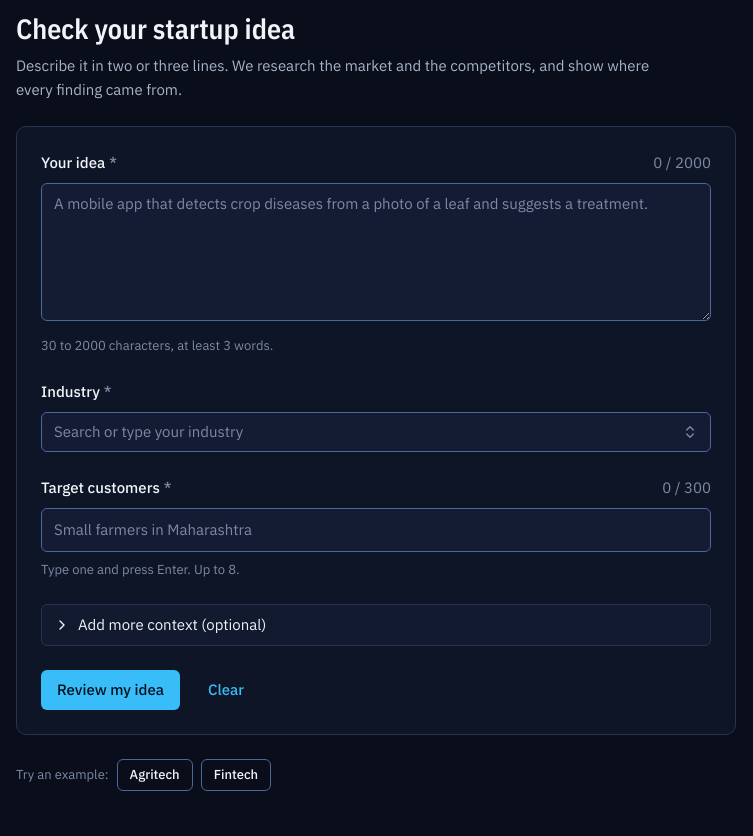
Test case: New validation: the form › tells the founder when the idea is too short
In the text box labelled "Your idea*": (376, 252) [41, 183, 711, 321], type "Too short an idea"
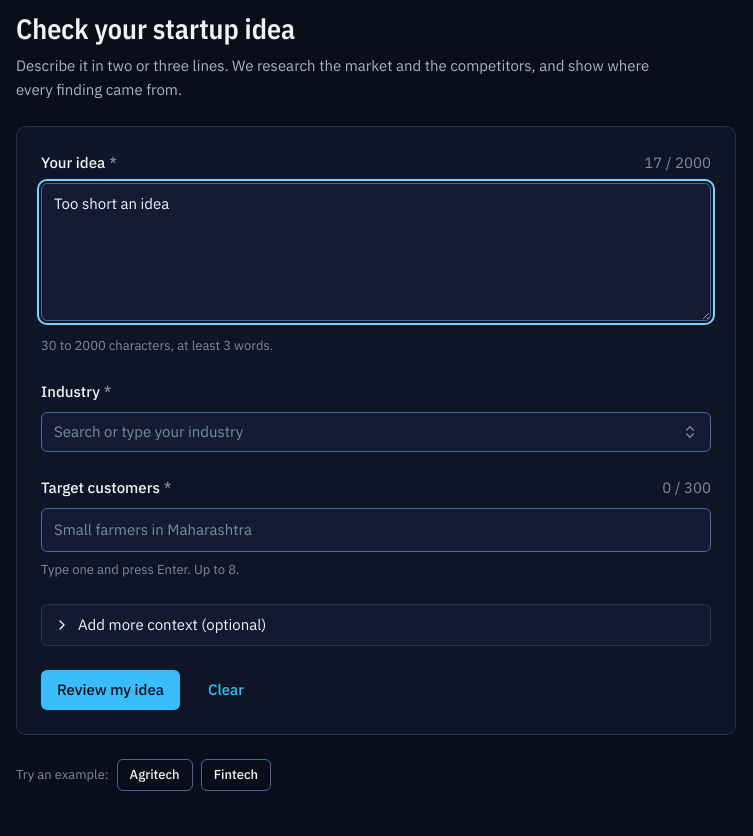
Click the button "Review my idea": (110, 690) [41, 670, 180, 710]
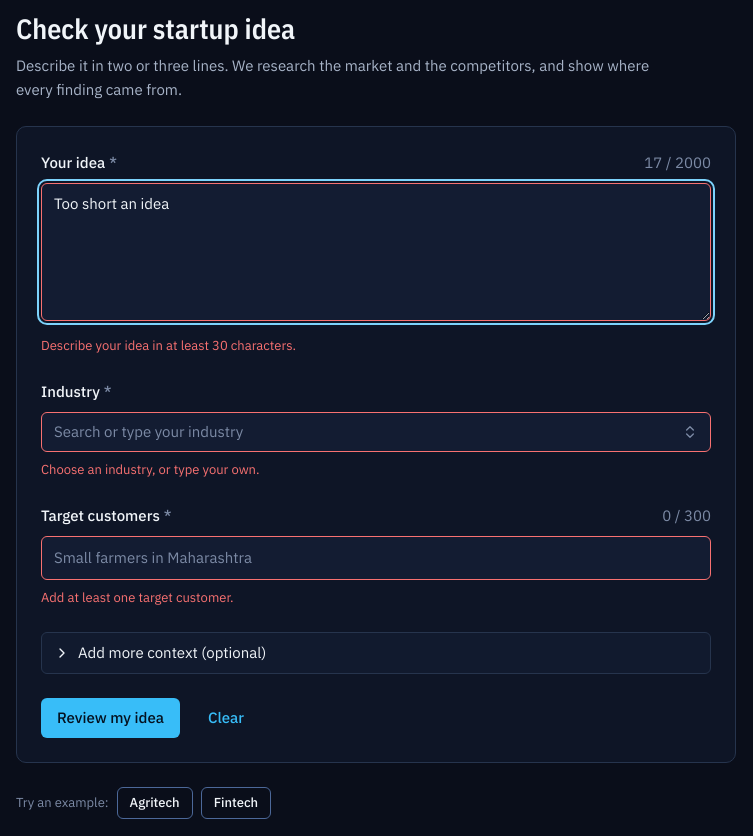
Expected: the text "Describe your idea in at least 30 characters." is shown, [41, 337, 296, 354]
